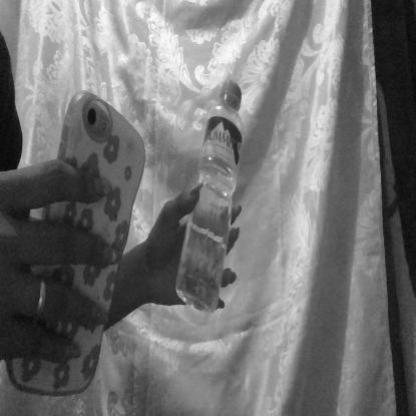Plastic Bottle: (171, 56, 264, 343)
